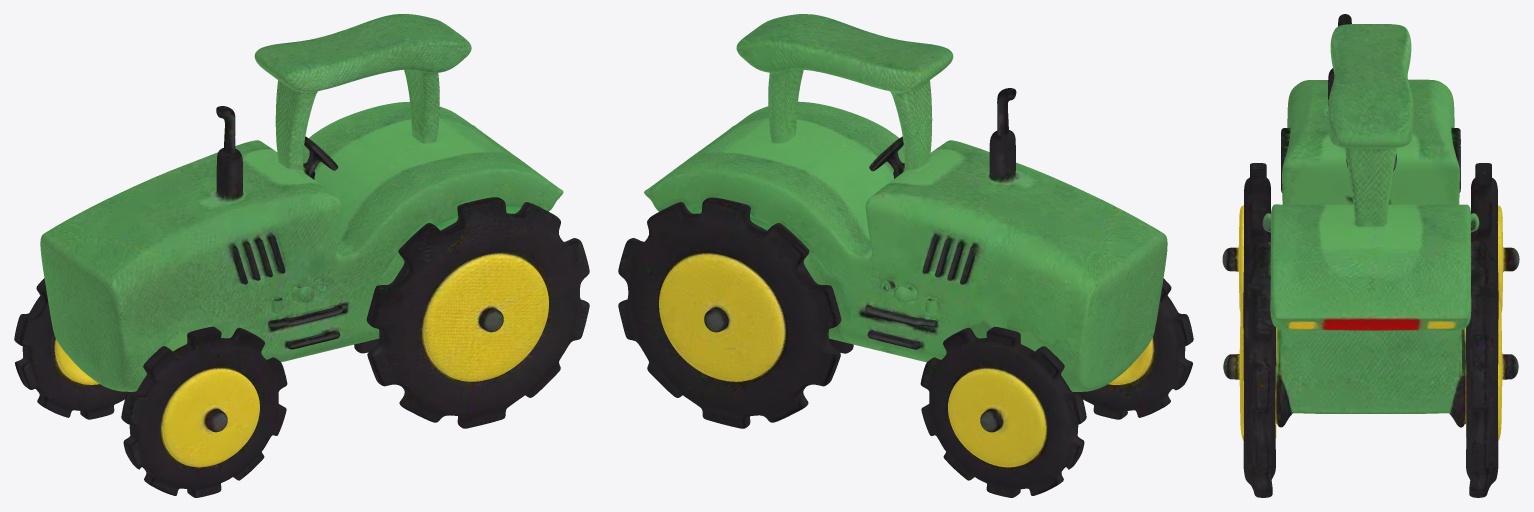
The model's file is Trattore.glb.
3 renders of one model, left to right at view 1: azimuth 30°, elevation 25°; view 2: azimuth 150°, elevation 25°; view 3: azimuth 270°, elevation 25°, orthographic. The views are drawn at different scales.
Bounding box in the file's own units: 1.9 × 1.43 × 0.9967.
1 material, 1 textured.
